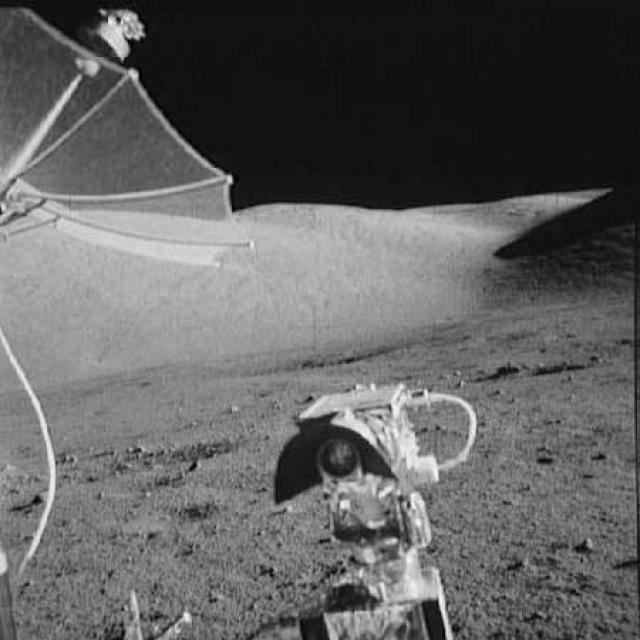artifact: (2, 3, 261, 271), (260, 381, 505, 639), (0, 328, 76, 579)
crater: (95, 440, 236, 468), (462, 351, 589, 376)
